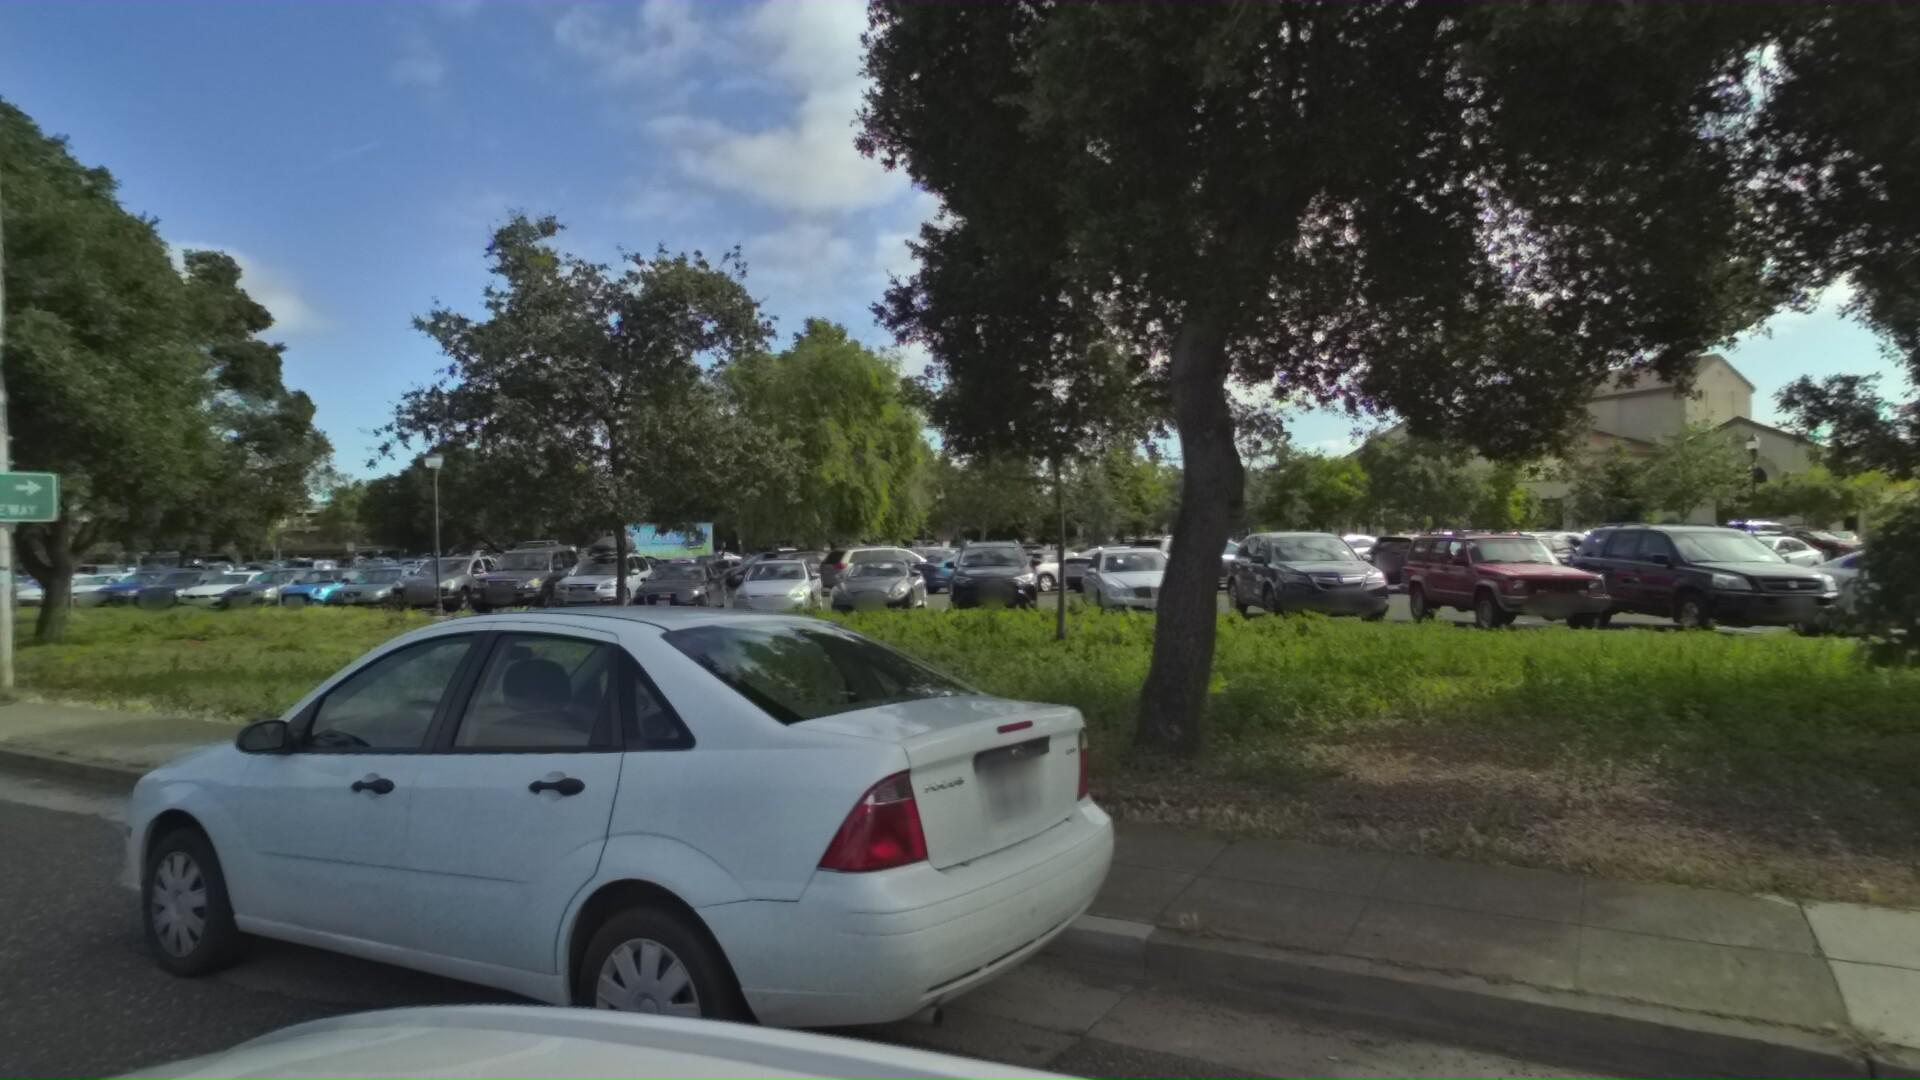car: (78, 585, 1218, 1080)
